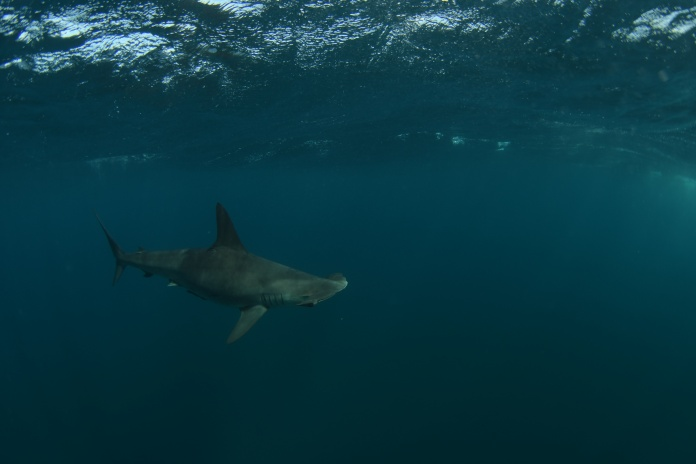Hammer: (74, 164, 371, 342)
